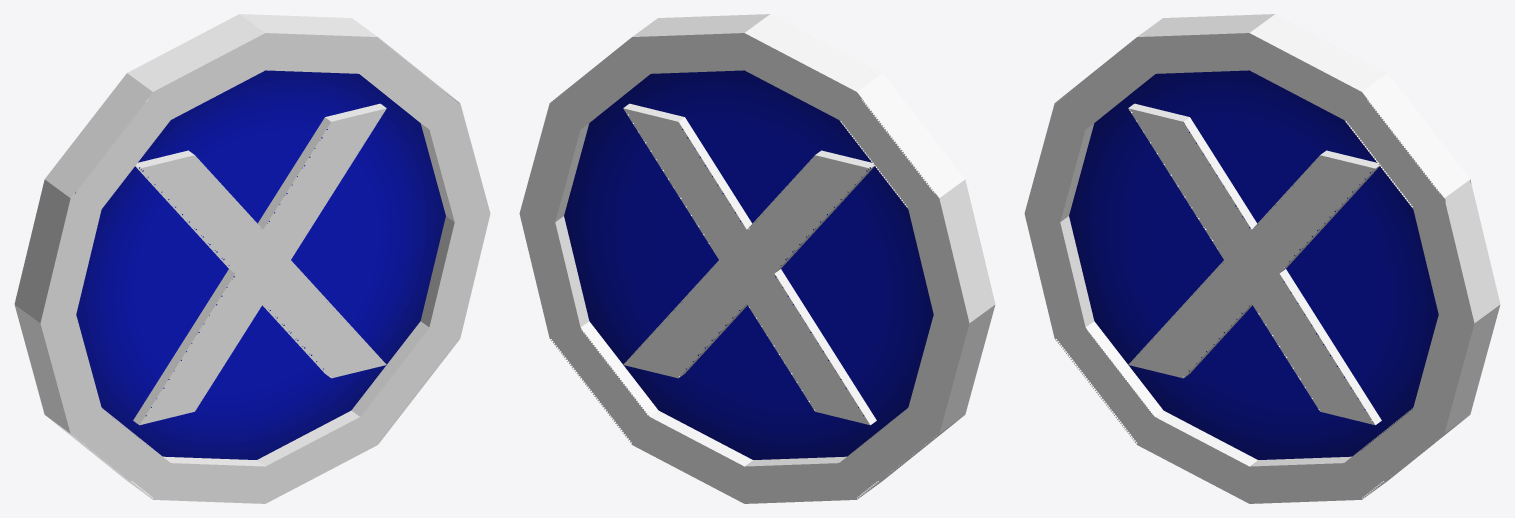
3 renders of one model, left to right at view 1: azimuth 30°, elevation 25°; view 2: azimuth 150°, elevation 25°; view 3: azimuth 330°, elevation 25°, orthographic.
Parts seen in each view (by area): view 1: group4; view 2: group4; view 3: group4.
Part boxes in pixels (x1,y1,x2,y2): group4: [14, 14, 490, 503]; group4: [519, 14, 995, 503]; group4: [1024, 14, 1500, 503].
Bounding box in the file's own units: 100 × 100 × 10.
1 material, 1 textured.
